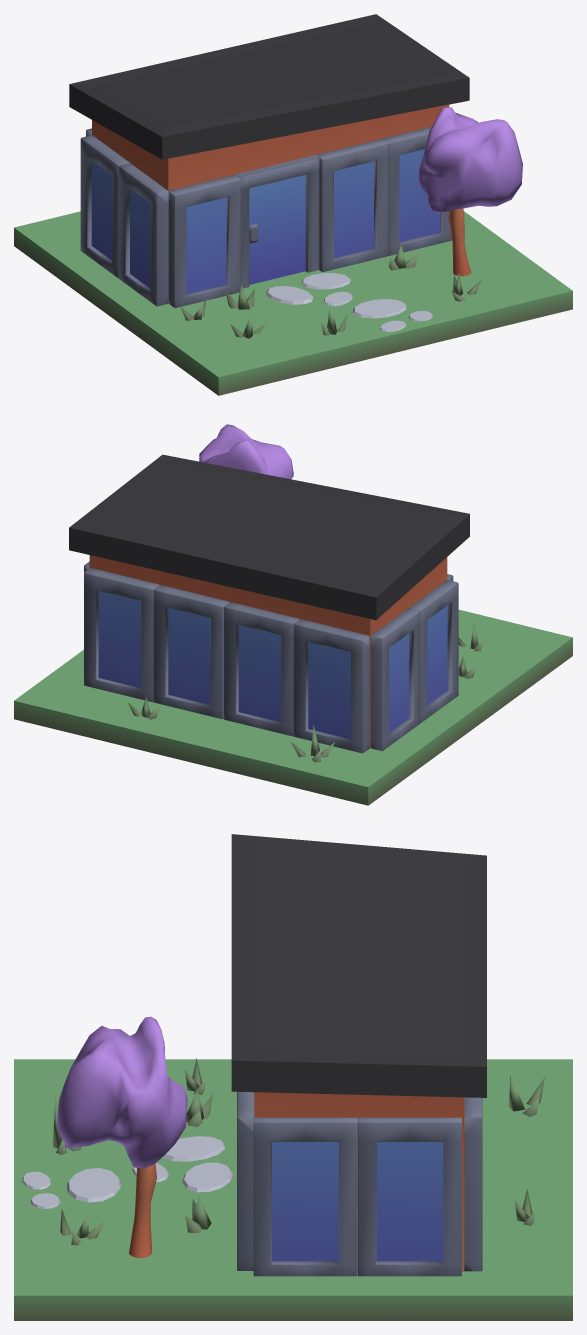
Rendered from tech_startup.glb.
3 renders of one model, top to bottom at view 1: azimuth 30°, elevation 25°; view 2: azimuth 150°, elevation 25°; view 3: azimuth 270°, elevation 25°, orthographic. The views are drawn at different scales.
Visible parts, largest first — view 1: tech_startup; view 2: tech_startup; view 3: tech_startup.
Part boxes in pixels (box(x1,y1,x2,y2)): tech_startup: box(14, 14, 572, 395); tech_startup: box(14, 424, 572, 805); tech_startup: box(14, 834, 572, 1320).
Bounding box in the file's own units: 1 × 0.5253 × 1.
Materials: 1 (1 with a texture image).
